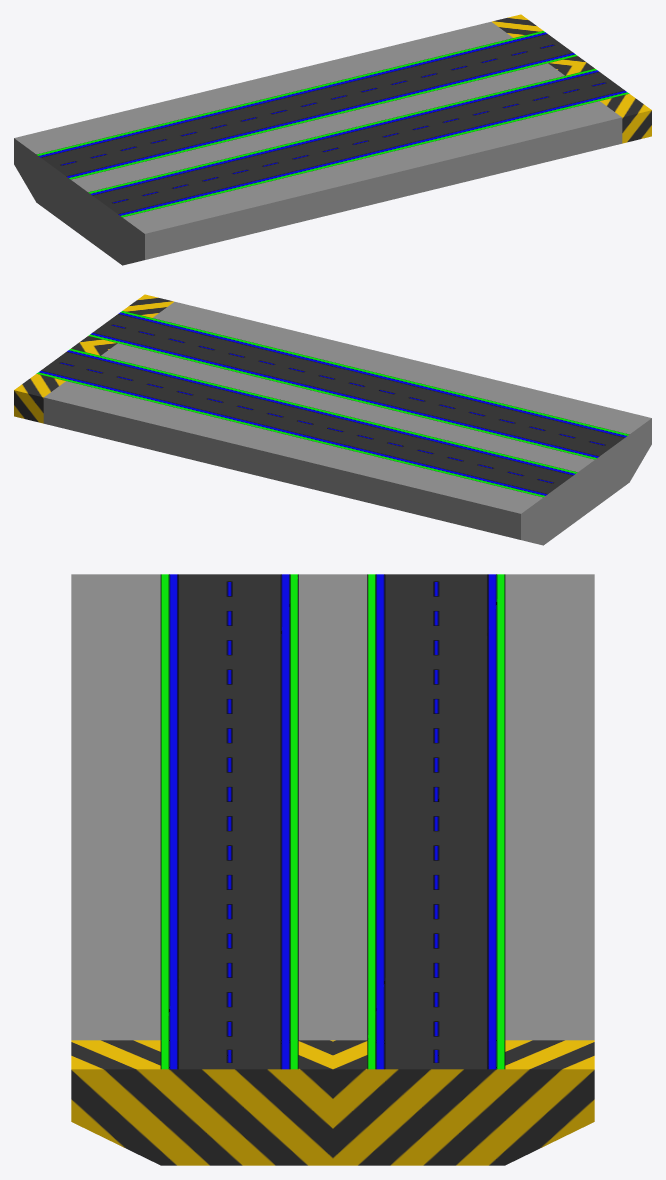
Rendered from SM_CausewayBridgeEndpiece.FBX.
3 renders of one model, top to bottom at view 1: azimuth 30°, elevation 25°; view 2: azimuth 150°, elevation 25°; view 3: azimuth 270°, elevation 25°, orthographic. The views are drawn at different scales.
Parts seen in each view (by area): view 1: Object004; view 2: Object004; view 3: Object004.
Part boxes in pixels (x1=…): Object004: x1=14, y1=14, x2=651, y2=265; Object004: x1=14, y1=294, x2=651, y2=545; Object004: x1=71, y1=574, x2=594, y2=1165.
Size of the model in its own units: 8500 by 770 by 3800.
3 materials, 2 textured.
